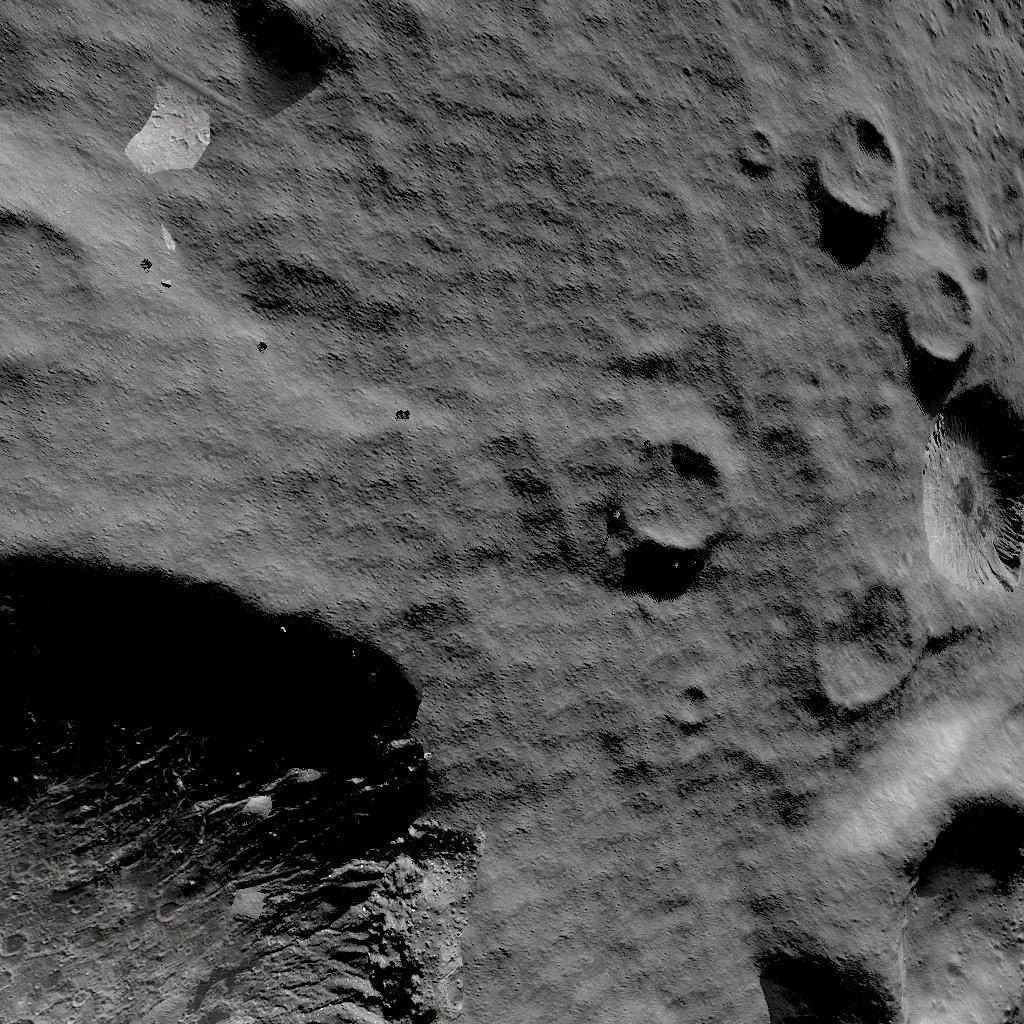Boulders: (107, 80, 210, 172)
Crater: (0, 532, 471, 1024), (795, 384, 1024, 716), (743, 768, 1024, 1024), (601, 426, 732, 566), (795, 114, 895, 226), (869, 276, 977, 370), (730, 134, 775, 180)
Plan surface: (111, 188, 580, 514), (487, 748, 730, 1024), (365, 0, 722, 174)
